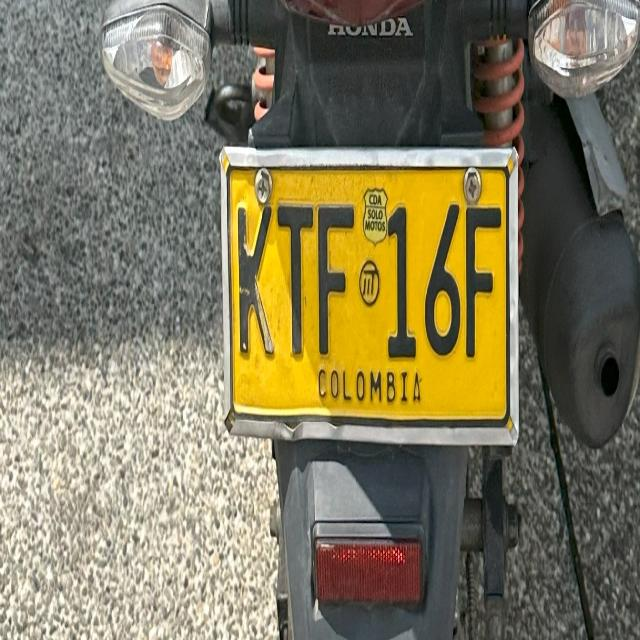number plate: (220, 146, 518, 443)
